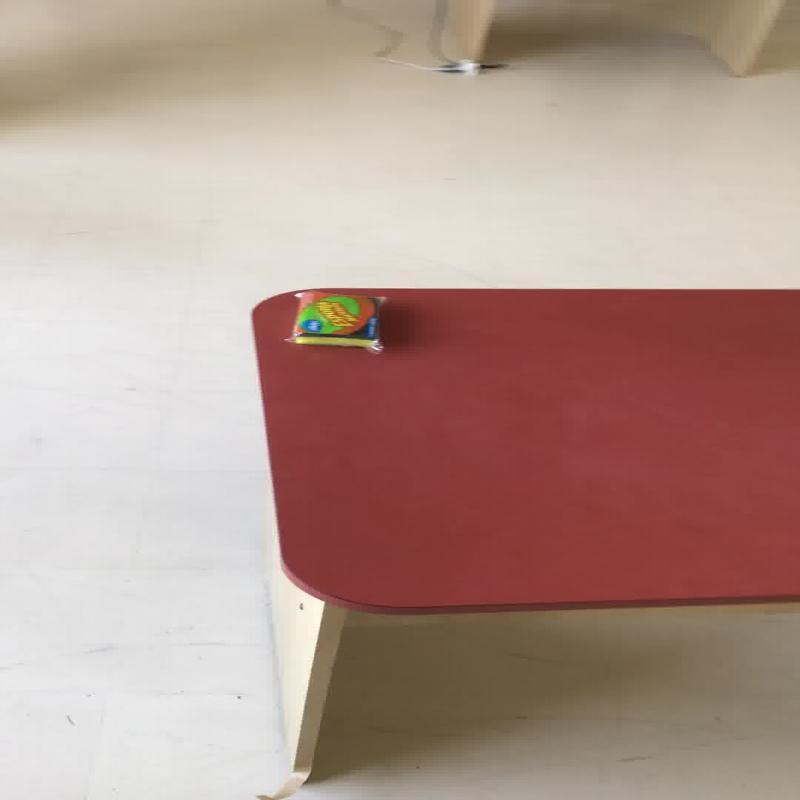sponge: (283, 290, 388, 353)
